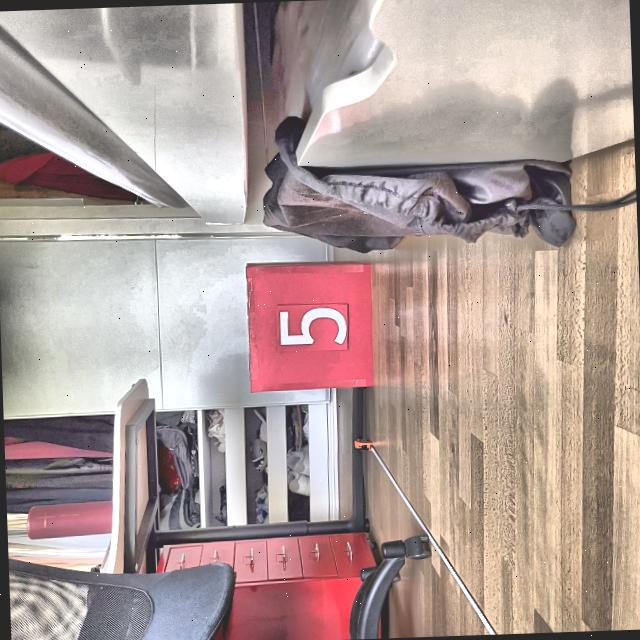five: (277, 306, 348, 348)
red box: (244, 258, 375, 392)
